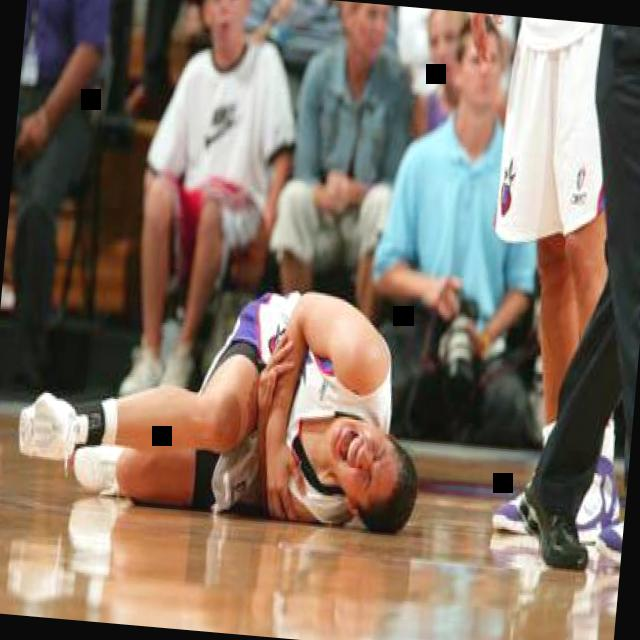Fall-Detected: (12, 233, 445, 547)
